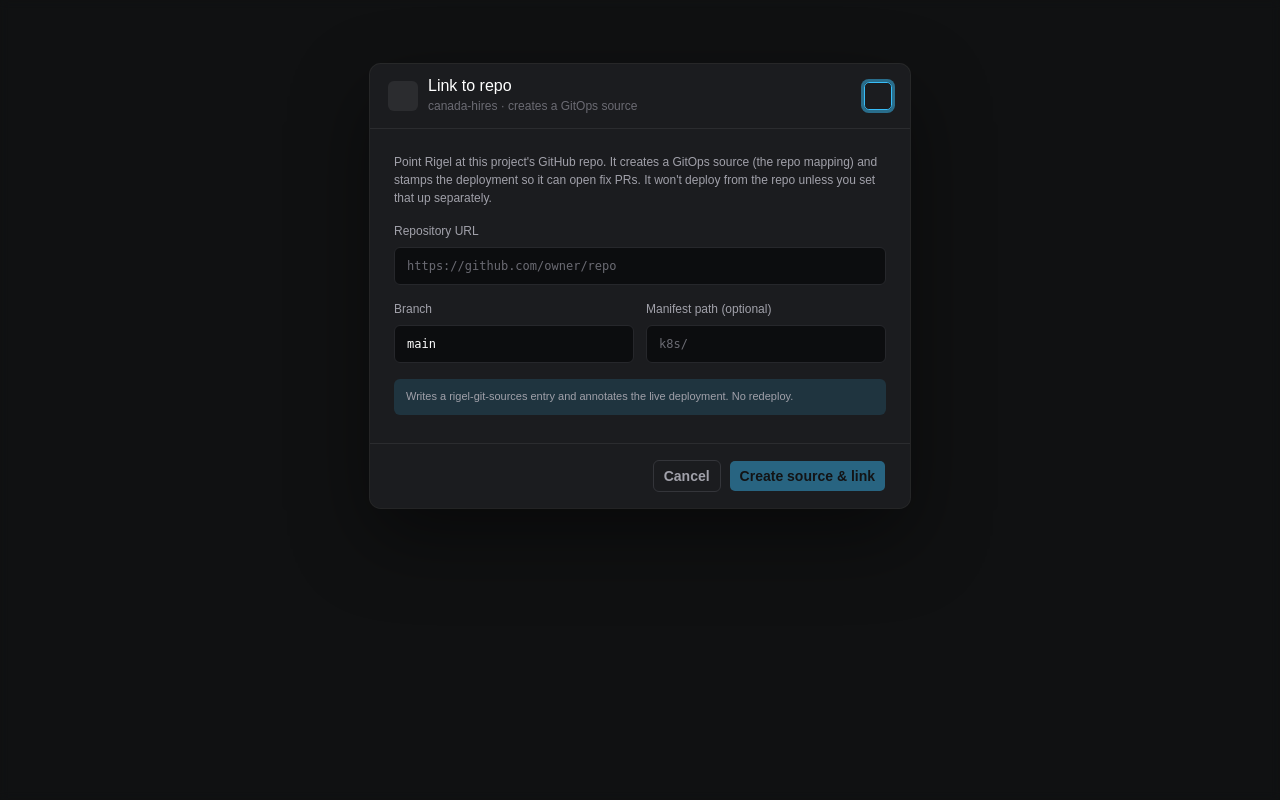
Test: LinkRepoModal › surfaces a link error and stays open
Type "https://github.com/tyrel/canada-hires" into the field labelled "Repository URL". click: (640, 266)
box: [394,247,886,285]
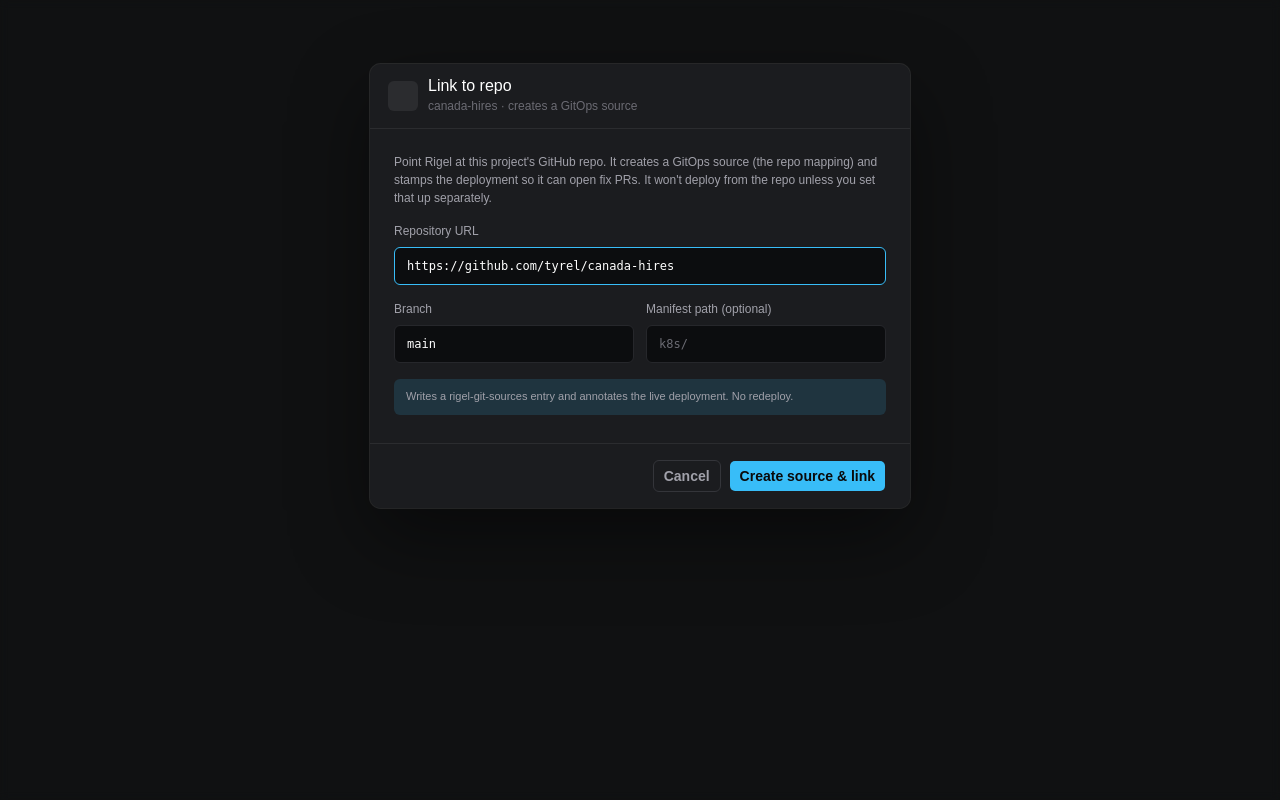
Click the button "Create source & link". click: (807, 476)
box: [729,460,886,492]
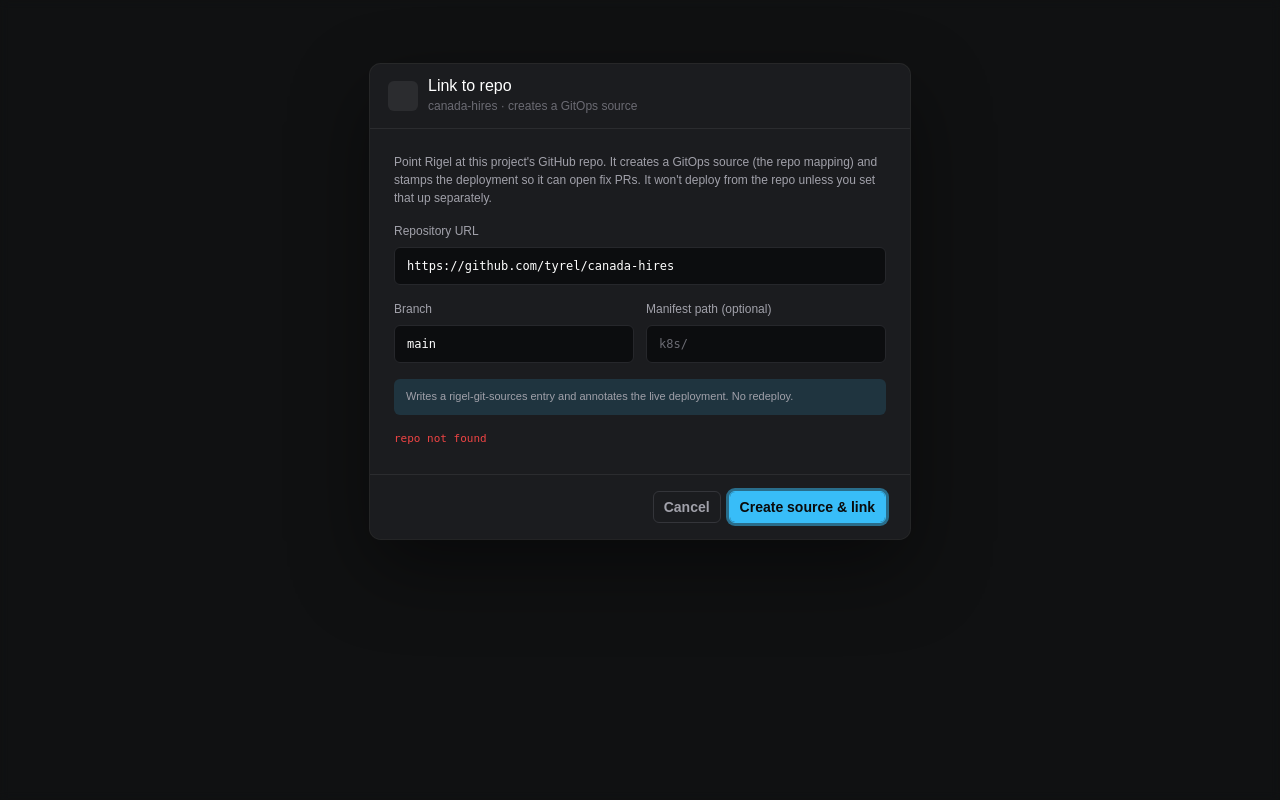
Expected: the text "repo not found" is shown, [394,432,487,445]
